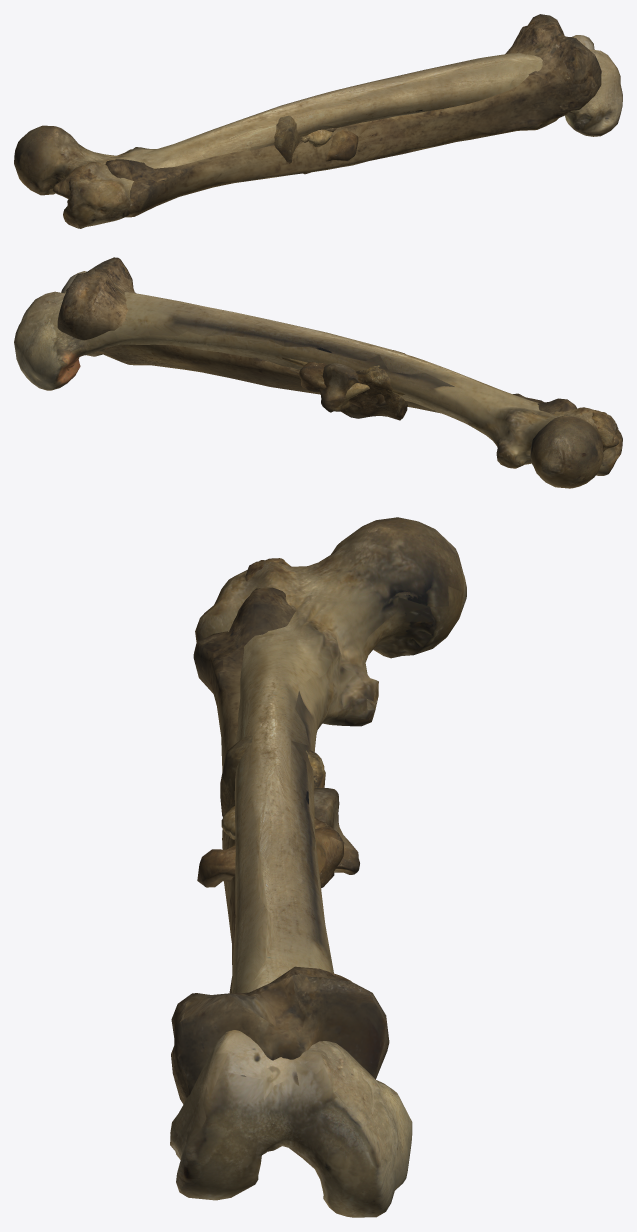
The model's file is noga.fbx.
3 renders of one model, top to bottom at view 1: azimuth 30°, elevation 25°; view 2: azimuth 150°, elevation 25°; view 3: azimuth 270°, elevation 25°, orthographic. The views are drawn at different scales.
Parts seen in each view (by area): view 1: Бедренная, Большеберцовая, Пяточная, Малоберцовая, Надколенник; view 2: Бедренная, Большеберцовая, Пяточная, Таранная, Малоберцовая; view 3: Бедренная, Большеберцовая, Пяточная, Таранная.
Part boxes in pixels (x1,y1,x2,y2): Бедренная: (14,35,622,228); Большеберцовая: (105,14,601,217); Пяточная: (274,115,358,174); Малоберцовая: (52,165,96,199); Надколенник: (308,129,332,146); Бедренная: (14,271,622,488); Большеберцовая: (57,257,576,414); Пяточная: (299,350,407,420); Таранная: (320,363,384,412); Малоберцовая: (282,357,618,451); Бедренная: (170,517,466,1217); Большеберцовая: (171,587,389,1104); Пяточная: (197,735,343,888); Таранная: (313,788,359,874).
Size of the model in its own units: 46239 by 8333 by 10550.
